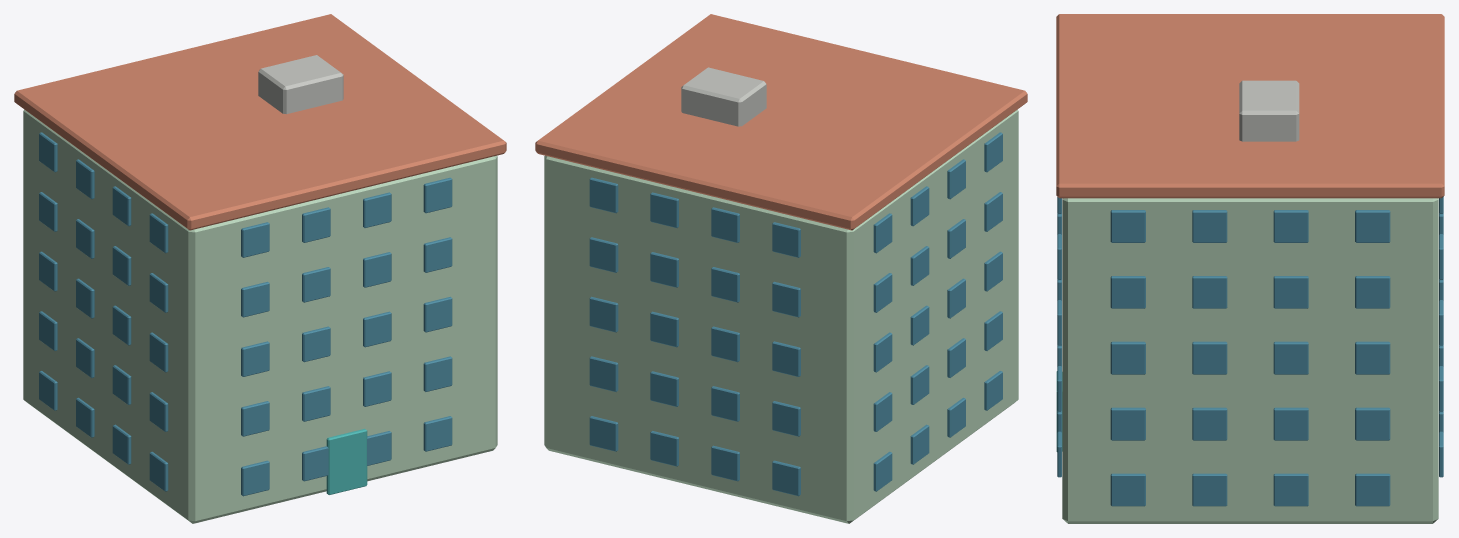
Rendered from RES_MID_2x2_002.glb.
3 renders of one model, left to right at view 1: azimuth 30°, elevation 25°; view 2: azimuth 150°, elevation 25°; view 3: azimuth 270°, elevation 25°, orthographic. The views are drawn at different scales.
Visible parts, largest first — view 1: RES_MID_2x2_002_Visual; view 2: RES_MID_2x2_002_Visual; view 3: RES_MID_2x2_002_Visual.
Part boxes in pixels (bbox=[...]): RES_MID_2x2_002_Visual: bbox=[14, 14, 506, 523]; RES_MID_2x2_002_Visual: bbox=[535, 14, 1027, 523]; RES_MID_2x2_002_Visual: bbox=[1056, 14, 1444, 523].
Size of what is drawn, in the model's own units: 3.25 by 3.29 by 3.1.
